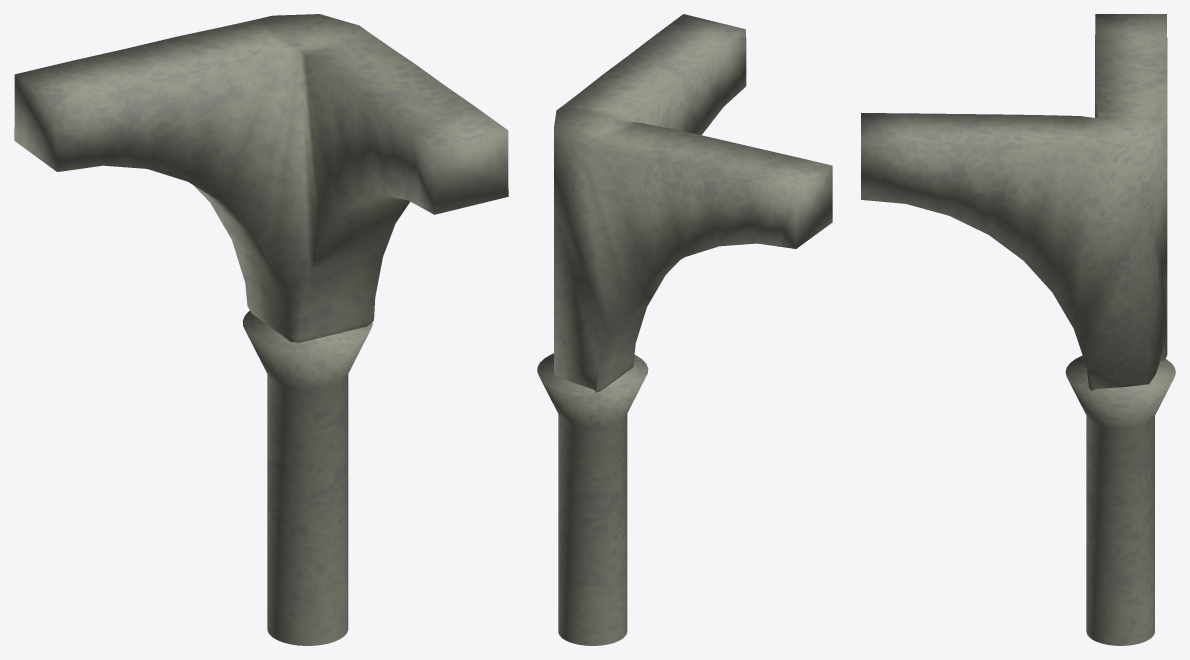
The model's file is column-corner.fbx.
3 renders of one model, left to right at view 1: azimuth 30°, elevation 25°; view 2: azimuth 150°, elevation 25°; view 3: azimuth 270°, elevation 25°, orthographic. The views are drawn at different scales.
Parts seen in each view (by area): view 1: Cylinder_002; view 2: Cylinder_002; view 3: Cylinder_002.
Part boxes in pixels (x1,y1,x2,y2): Cylinder_002: (14, 14, 508, 645); Cylinder_002: (537, 14, 832, 645); Cylinder_002: (861, 14, 1175, 645).
Size of the model in its own units: 9.18 by 16.32 by 9.17.
1 material, 1 textured.
